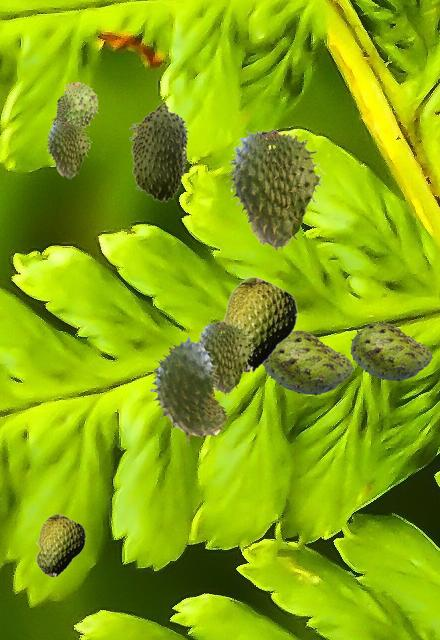guyabano: (226, 129, 325, 250), (150, 336, 227, 444), (220, 276, 297, 373), (129, 101, 189, 201), (263, 330, 352, 394), (350, 322, 431, 380), (196, 321, 254, 394), (35, 513, 85, 577), (45, 121, 91, 178), (51, 82, 97, 129)
